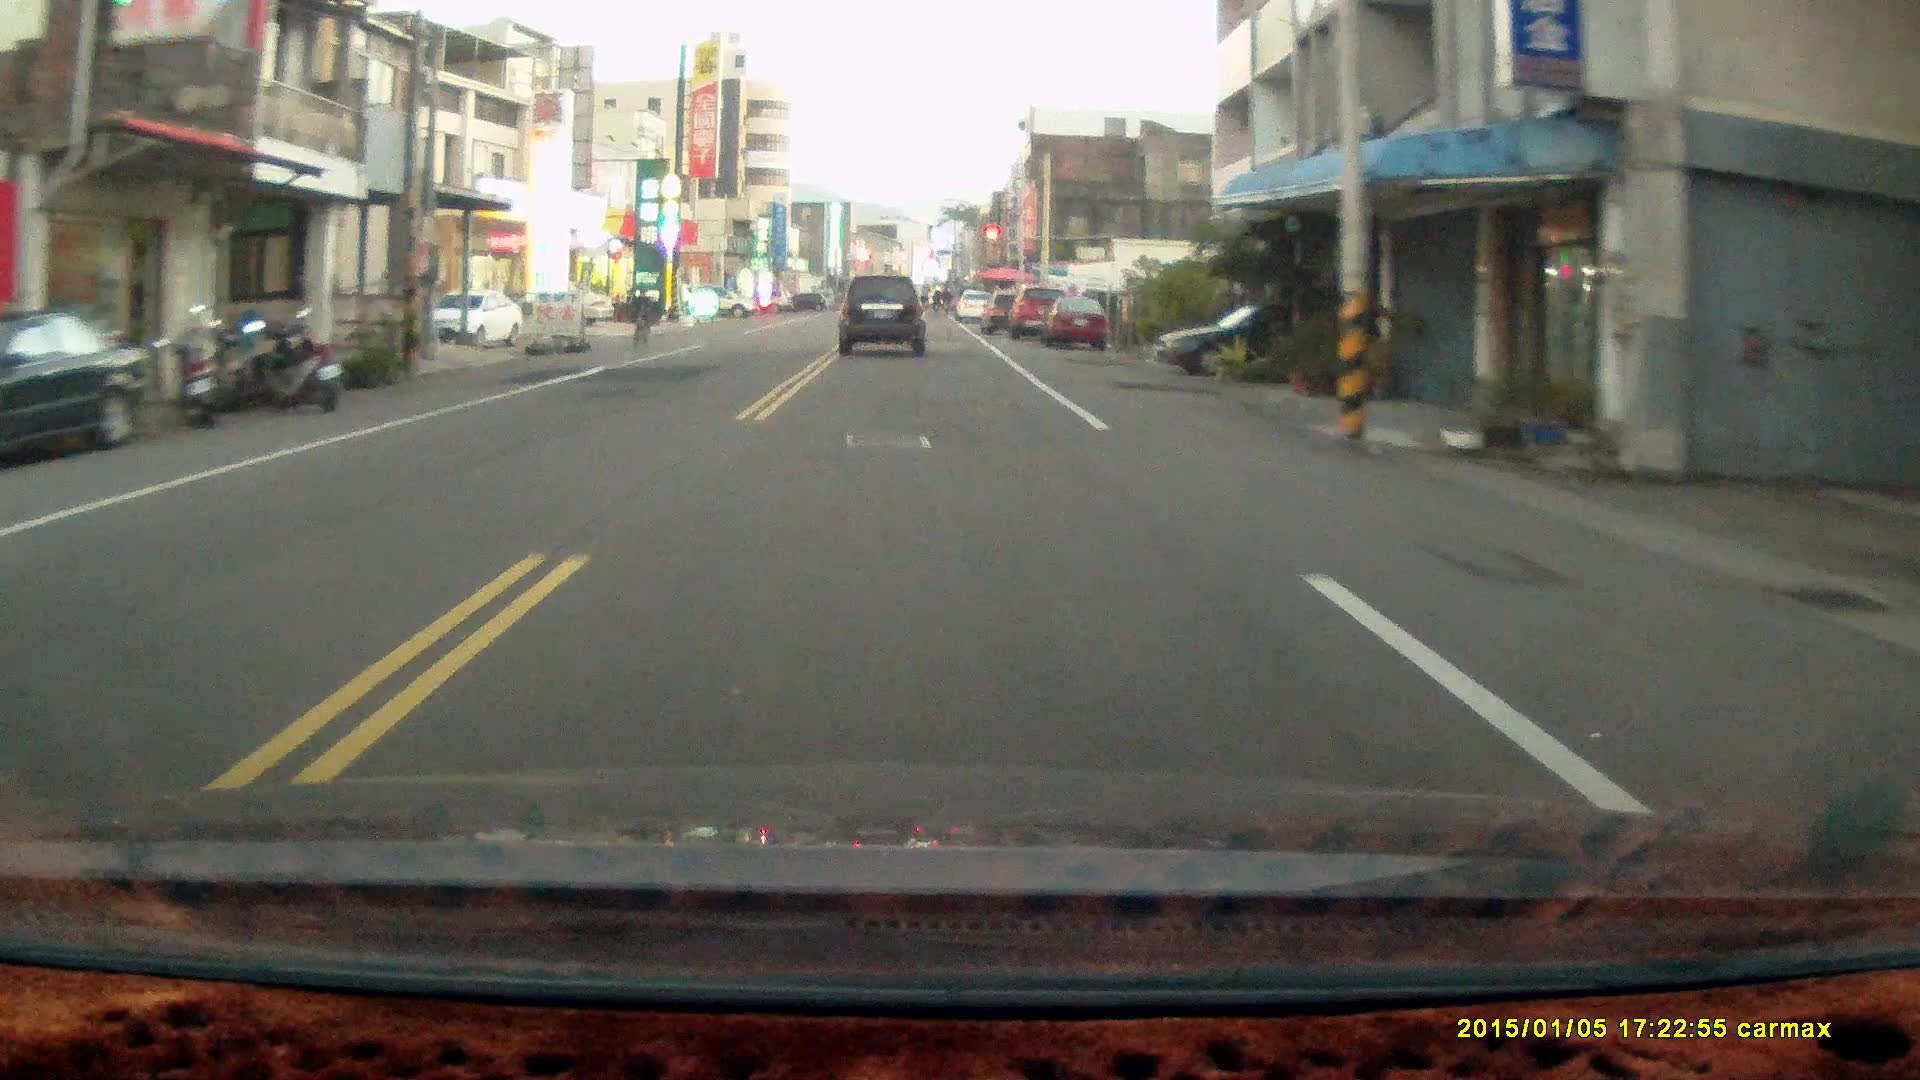rider: (629, 285, 655, 354)
vehicle: (1, 302, 157, 474), (1152, 310, 1335, 374), (837, 271, 933, 359), (428, 288, 523, 346), (1039, 294, 1108, 348)
